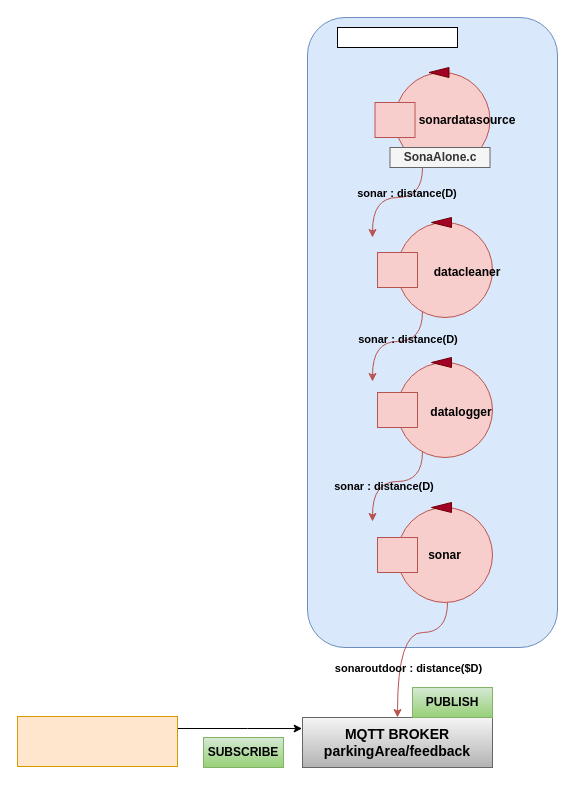
This 575x785 diagram has some shape labels left out. The shapes that lost their labels are listed below. From the top down, each one's centre as x and y in pixels, then its label:
At point (397, 37): "ctxsonaronrasp".
At point (97, 741): "localhost:5683 ctxparkingservice".
